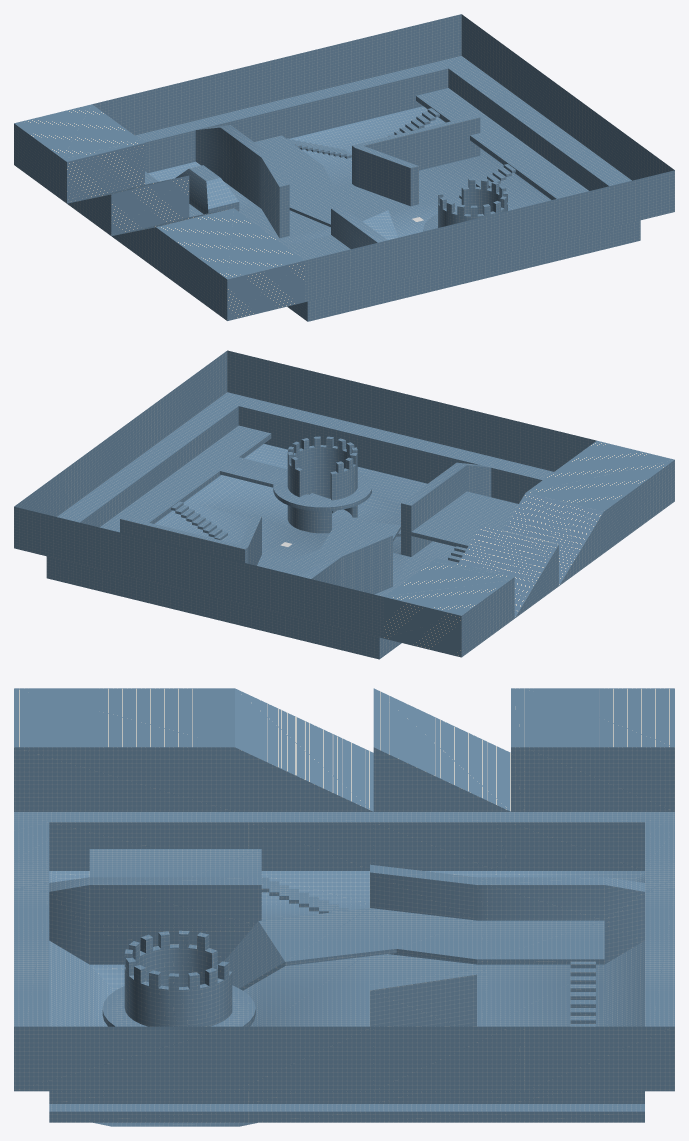
File: collision-world.glb
3 views of the same model, one above another, from view 1: azimuth 30°, elevation 25°; view 2: azimuth 150°, elevation 25°; view 3: azimuth 270°, elevation 25° (orthographic). The views are drawn at different scales.
Parts seen in each view (by area): view 1: Cube.004, Cube.002, Cube.001, Cube.007, Cube.005, Cube.006, Cube.009; view 2: Cube.004, Cube.002, Cube.007, Cube.001, Cube.006; view 3: Cube.004, Cube.005, Cube.007, Cube.001, Cube.006, Cube.009.
Boxes of the visible parts, bbox=[...] form: Cube.004: bbox=[14, 14, 674, 321]; Cube.002: bbox=[360, 115, 480, 170]; Cube.001: bbox=[355, 146, 418, 206]; Cube.007: bbox=[290, 188, 387, 224]; Cube.005: bbox=[254, 135, 322, 174]; Cube.006: bbox=[284, 165, 334, 207]; Cube.009: bbox=[362, 210, 397, 240]; Cube.004: bbox=[14, 350, 674, 659]; Cube.002: bbox=[120, 516, 239, 560]; Cube.007: bbox=[320, 518, 400, 550]; Cube.001: bbox=[240, 514, 261, 565]; Cube.006: bbox=[281, 549, 338, 571]; Cube.004: bbox=[14, 688, 674, 1126]; Cube.005: bbox=[477, 920, 604, 963]; Cube.007: bbox=[258, 908, 396, 965]; Cube.001: bbox=[370, 968, 476, 1026]; Cube.006: bbox=[370, 908, 476, 963]; Cube.009: bbox=[217, 921, 285, 990].
Bounding box in the file's own units: 114 × 23.58 × 94.19.
1 material, 1 textured.
